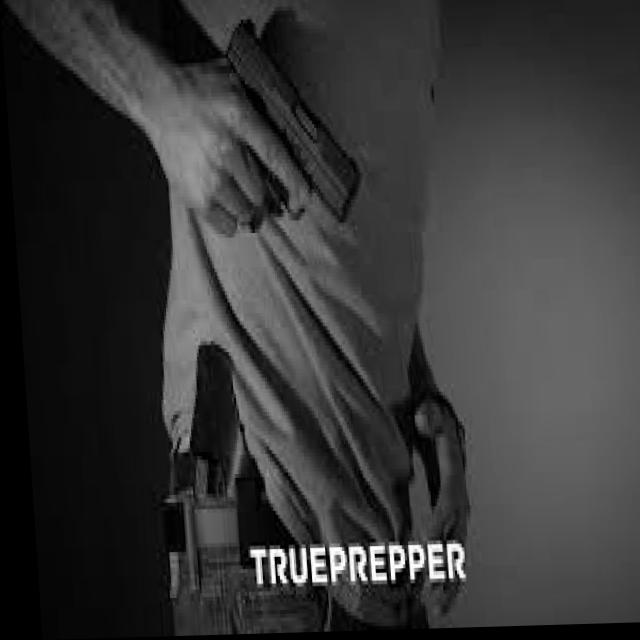handgun: (221, 10, 364, 233)
